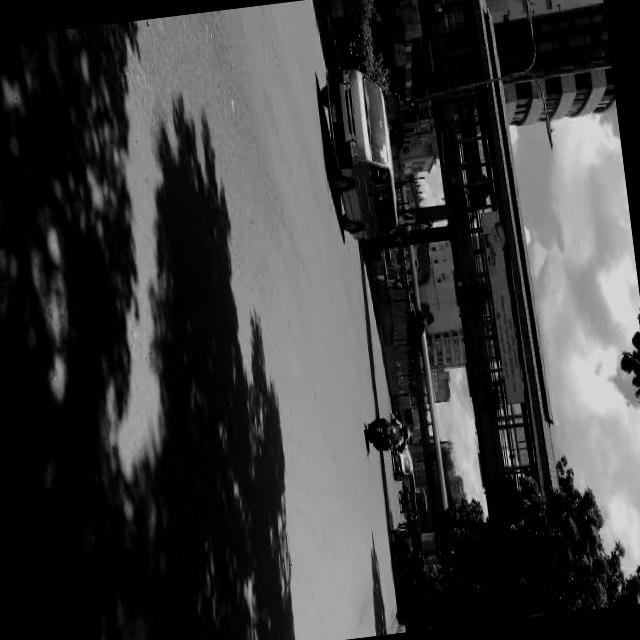bus: (413, 483, 429, 510)
motorcycle: (362, 408, 416, 456), (388, 522, 426, 568), (396, 486, 417, 511)
truck: (316, 55, 402, 242), (390, 443, 415, 481)
